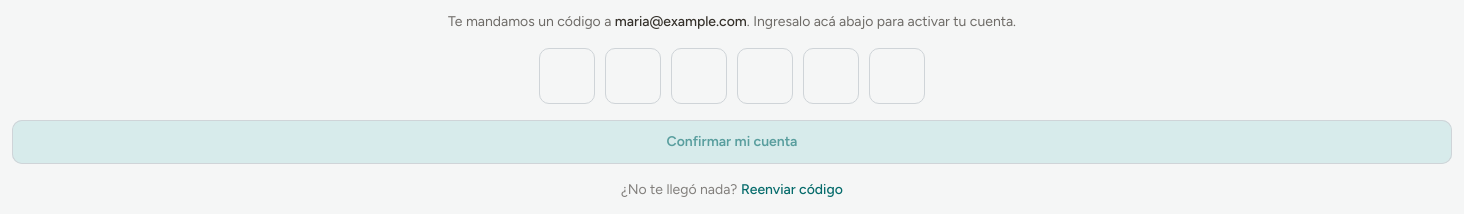
Test: ConfirmarCodigoForm › el botón de confirmar queda deshabilitado hasta completar los 6 dígitos
This screenshot has width=1464, height=214.
Check: the button "Confirmar mi cuenta" is disabled, box 12,120 -> 1452,164
Type "4" into the field named "Dígito " at (567, 76), box 539,48 -> 595,104
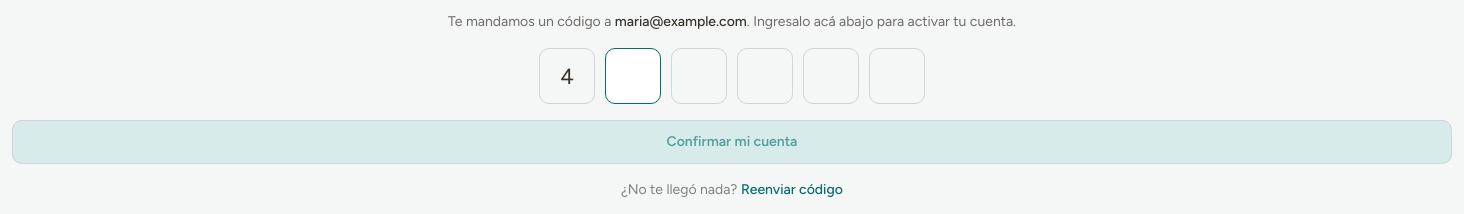
Type "8" into the field named "Dígito " at (633, 76), box 605,48 -> 661,104
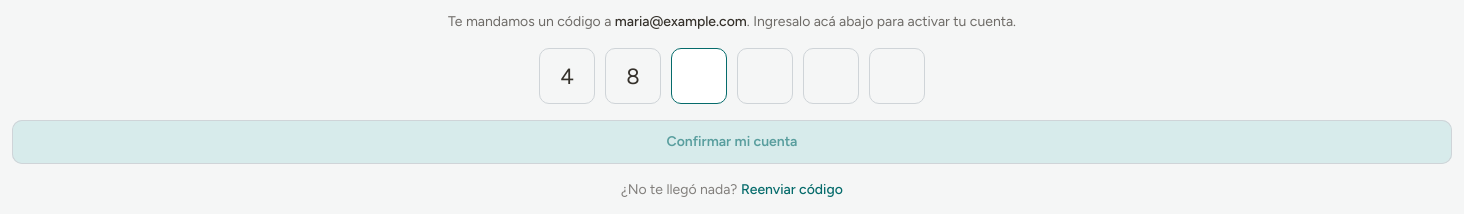
Type "2" into the field named "Dígito " at (699, 76), box 671,48 -> 727,104
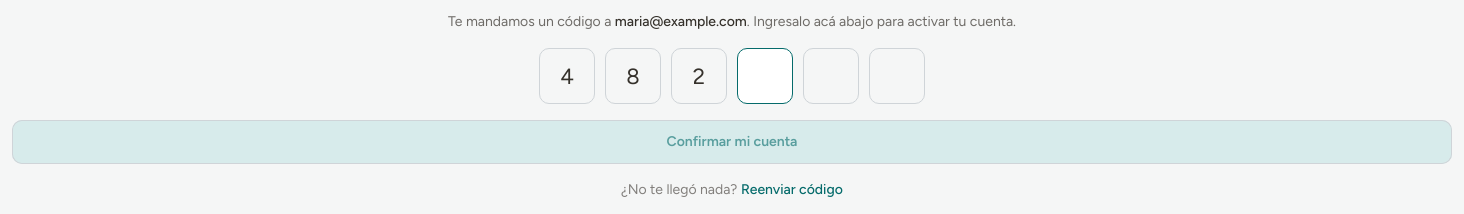
Type "9" into the field named "Dígito " at (765, 76), box 737,48 -> 793,104
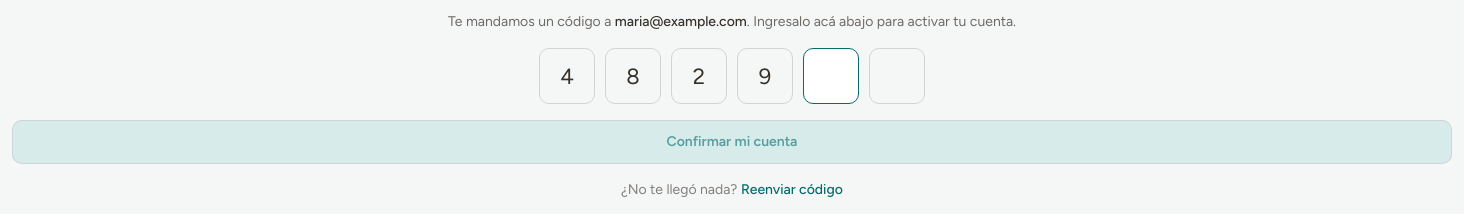
Type "1" into the field named "Dígito " at (831, 76), box 803,48 -> 859,104
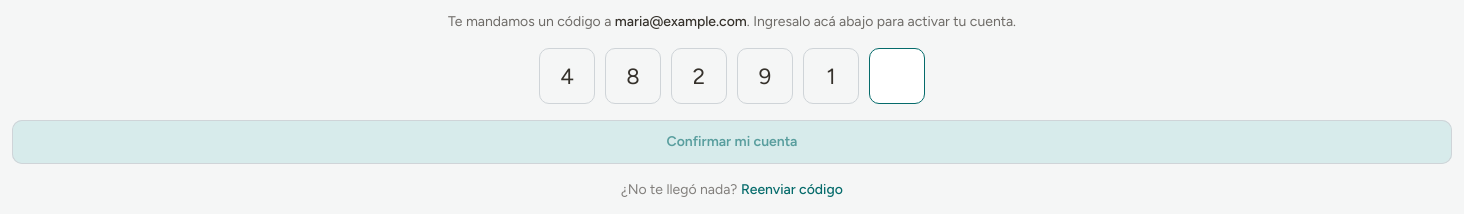
Type "3" into the field named "Dígito " at (897, 76), box 869,48 -> 925,104
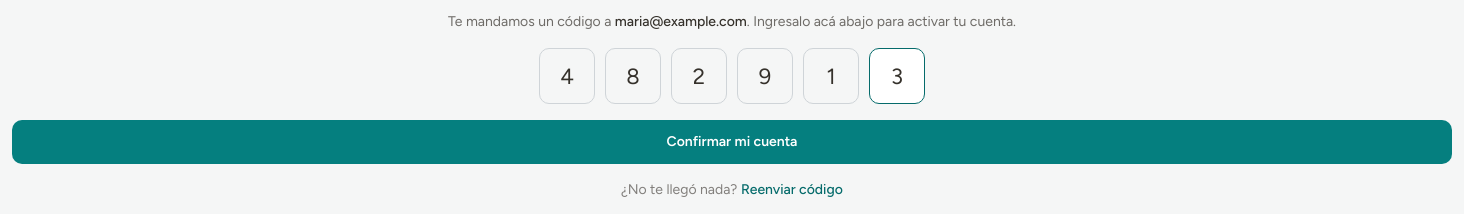
Check: the button "Confirmar mi cuenta" is enabled, box 12,120 -> 1452,164
